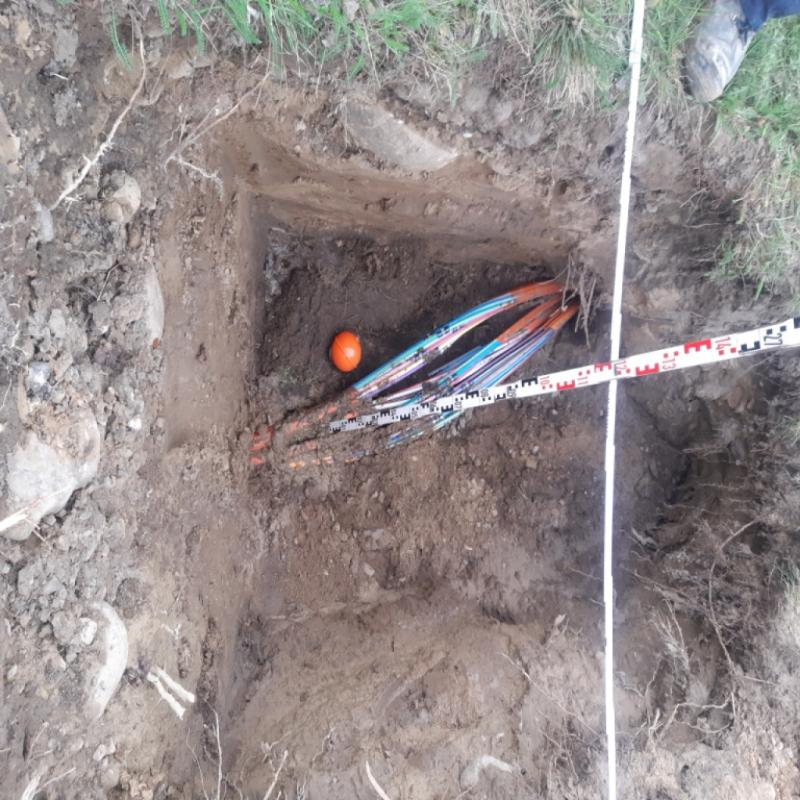Kugelmarker: (332, 333, 359, 370)
Orang-Speednetrohrchen: (465, 297, 578, 384), (450, 281, 563, 337)
